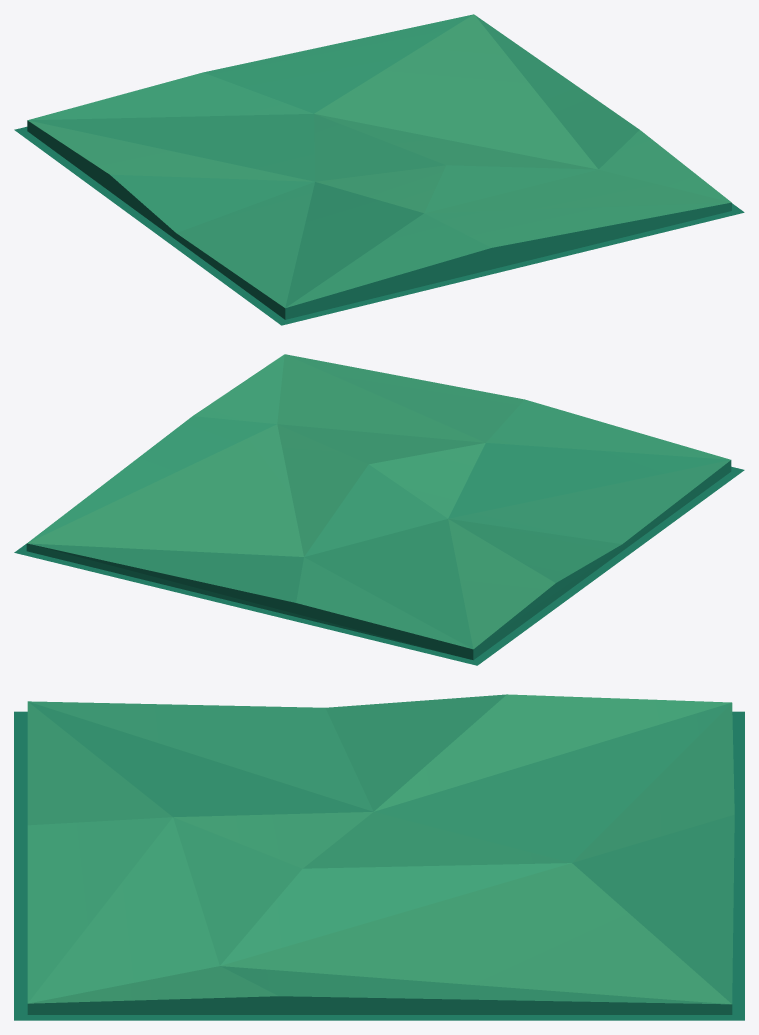
Rendered from Tile.fbx.
3 views of the same model, one above another, from view 1: azimuth 30°, elevation 25°; view 2: azimuth 150°, elevation 25°; view 3: azimuth 270°, elevation 25° (orthographic). The views are drawn at different scales.
Parts seen in each view (by area): view 1: Plane; view 2: Plane; view 3: Plane.
Part boxes in pixels (left/top/right/bottom): Plane: left=14, top=14, right=744, bottom=325; Plane: left=14, top=354, right=744, bottom=665; Plane: left=14, top=694, right=744, bottom=1020.
Size of the model in its own units: 100 by 4.47 by 100.
